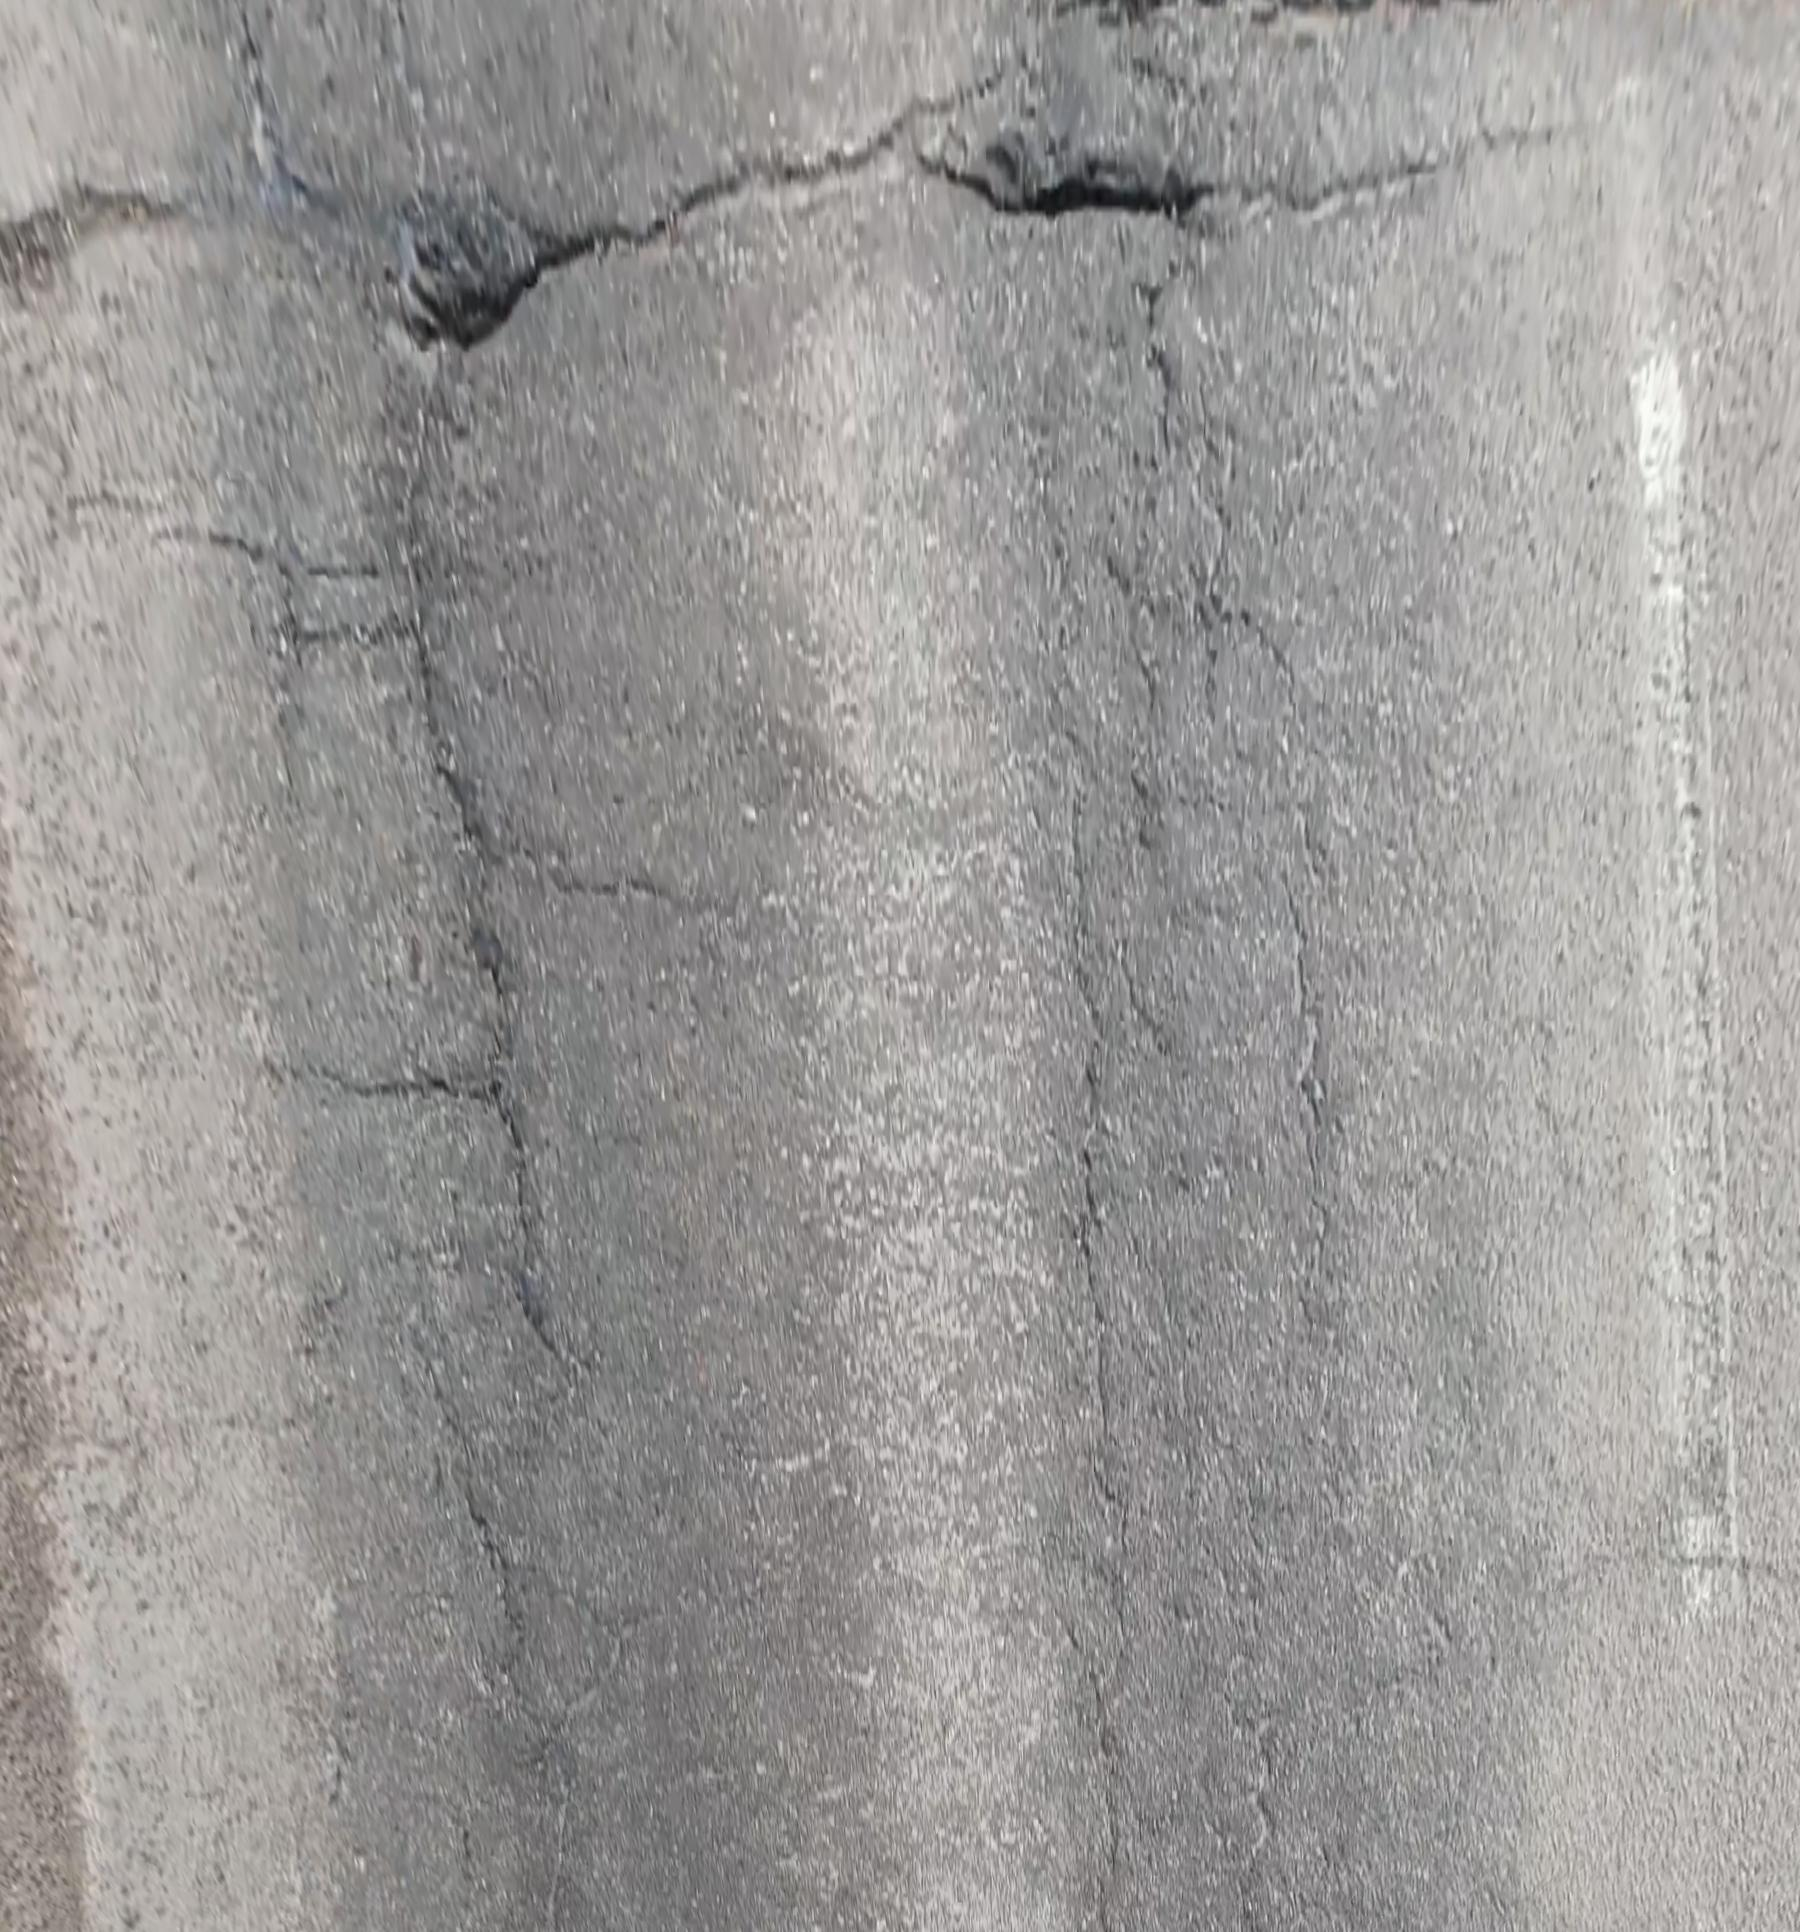pothole: (386, 174, 594, 354), (958, 134, 1210, 213), (0, 186, 169, 272)
